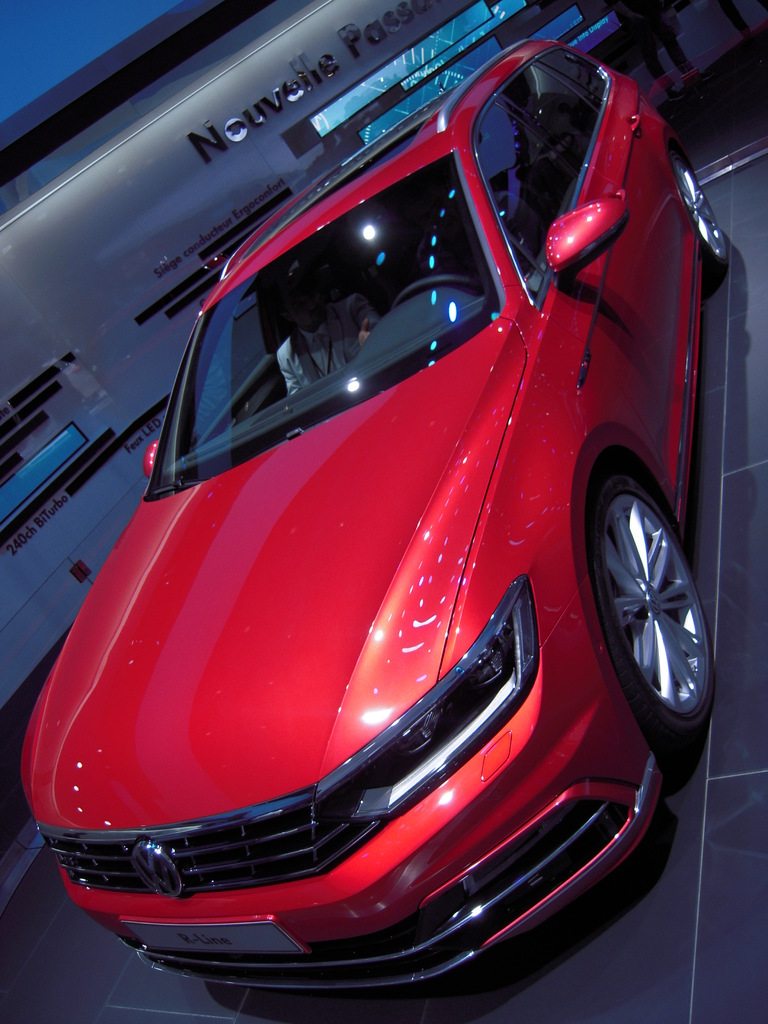Car: (20, 0, 713, 988)
